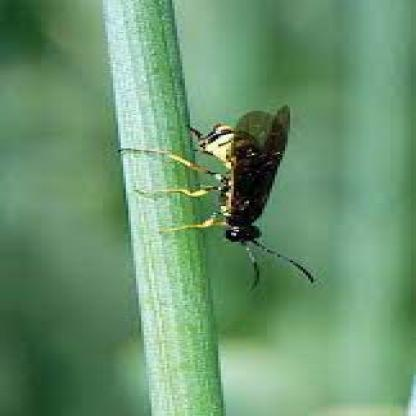sawfly: (118, 101, 327, 290)
